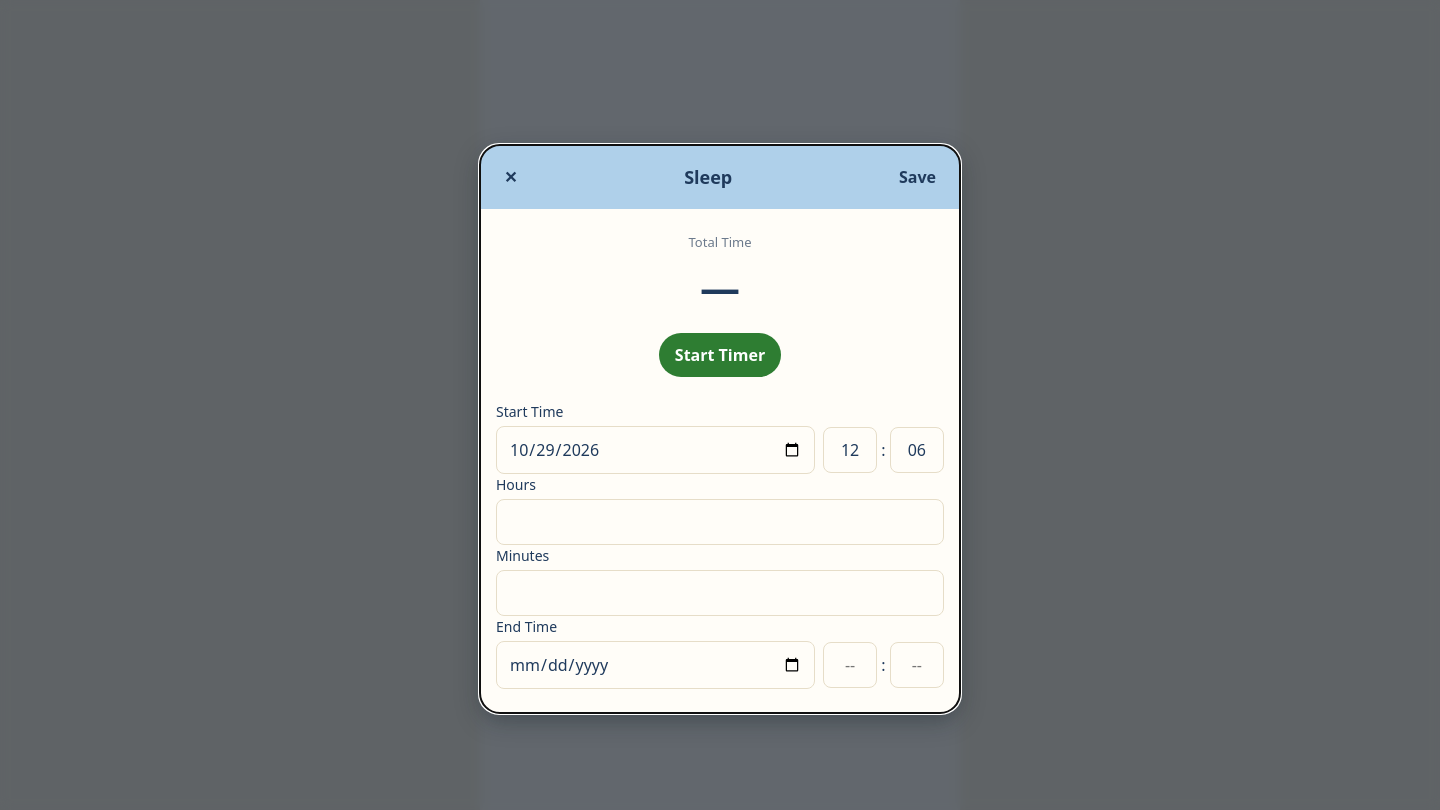
Test: SleepTimerModal › starts the timer and shows a starting placeholder until the active entry resolves
This screenshot has width=1440, height=810.
Click the button "Start Timer". click: (720, 355)
box: [659,333,781,377]
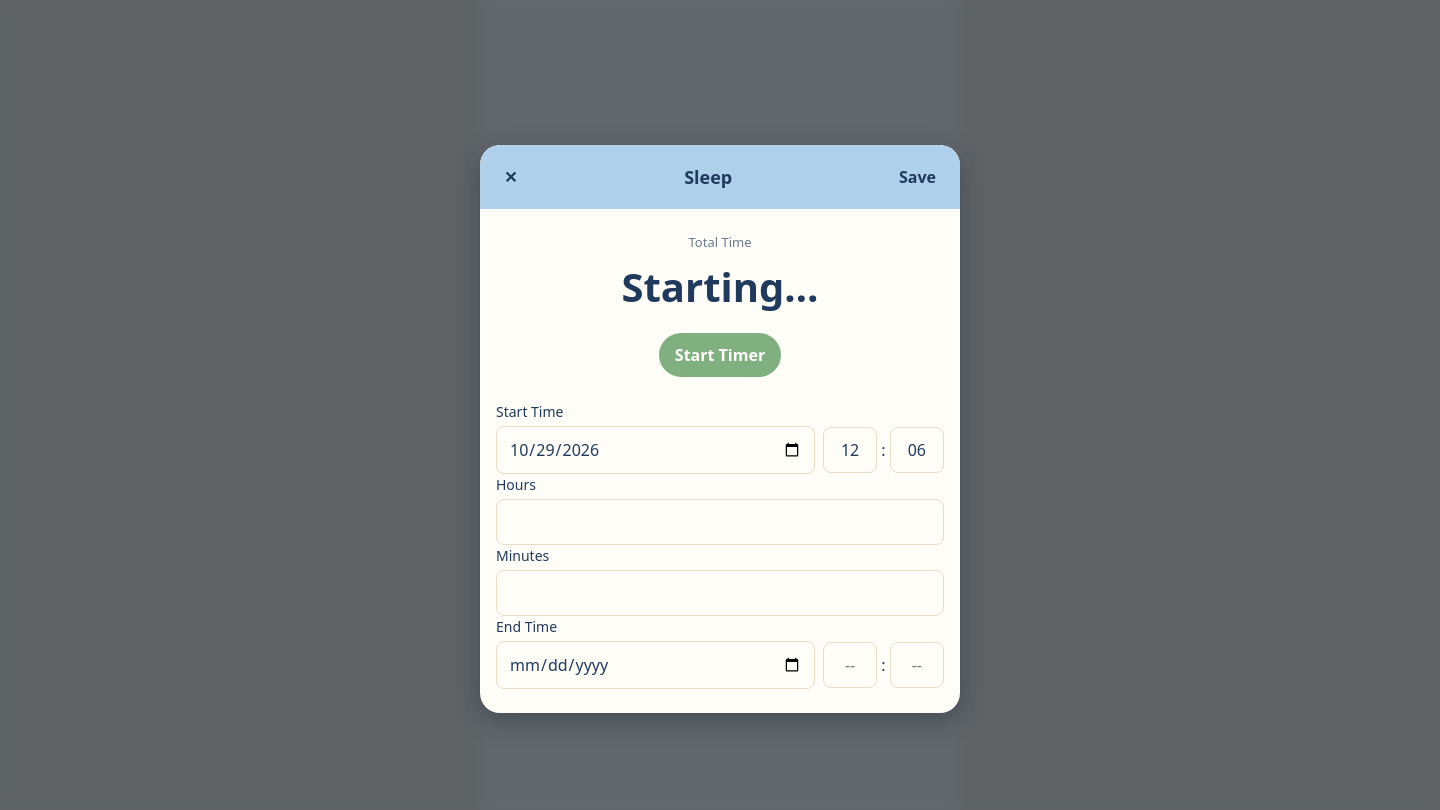
Expected: the text "Starting…" is shown, [622,259,819,314]
Expected: the button "Start Timer" is disabled, [659,333,781,377]
